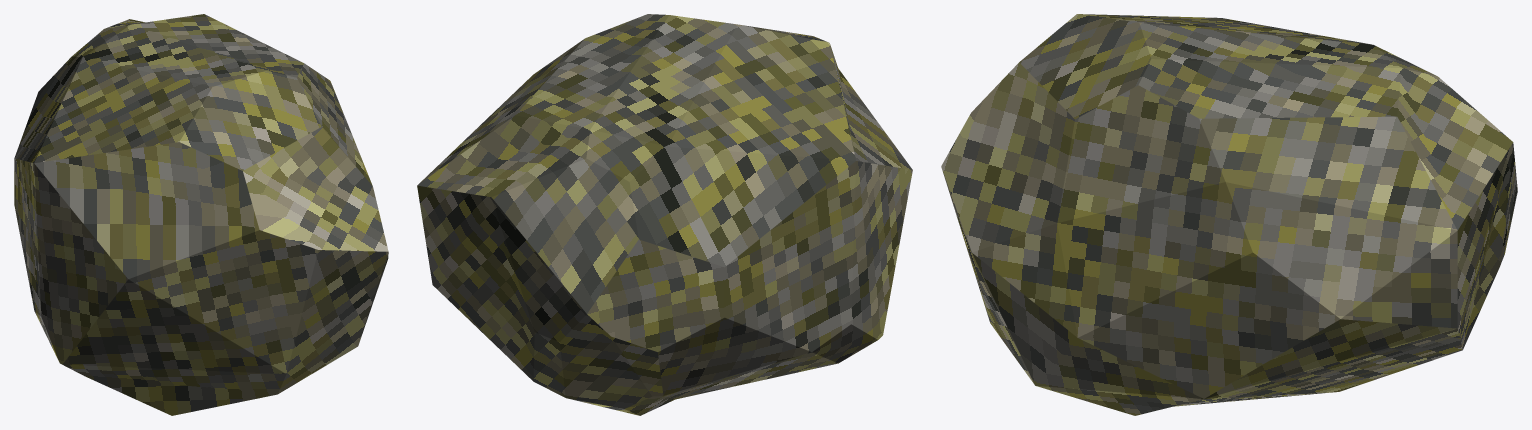
The model's file is BigRock.glb.
3 renders of one model, left to right at view 1: azimuth 30°, elevation 25°; view 2: azimuth 150°, elevation 25°; view 3: azimuth 270°, elevation 25°, orthographic. The views are drawn at different scales.
Visible parts, largest first — view 1: BigRock; view 2: BigRock; view 3: BigRock.
Boxes of the visible parts, box(x1,y1,x2,y2) form: BigRock: box(14, 14, 388, 415); BigRock: box(417, 14, 912, 415); BigRock: box(941, 14, 1517, 415).
Bounding box in the file's own units: 1.89 × 1.65 × 2.33.
1 material, 1 textured.
